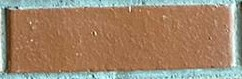redbrick: (1, 1, 242, 79)
